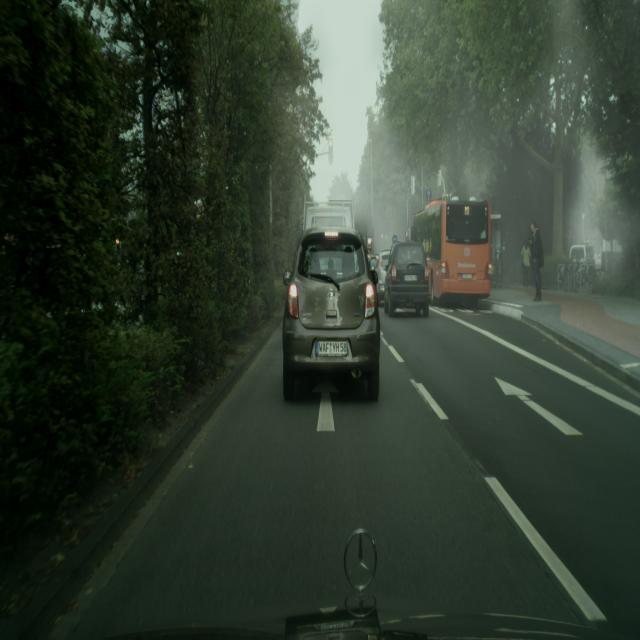bicycle: (413, 196, 493, 304)
person: (530, 221, 544, 301), (521, 238, 531, 288)
truck: (282, 224, 381, 402), (383, 240, 431, 318), (374, 250, 391, 306)
